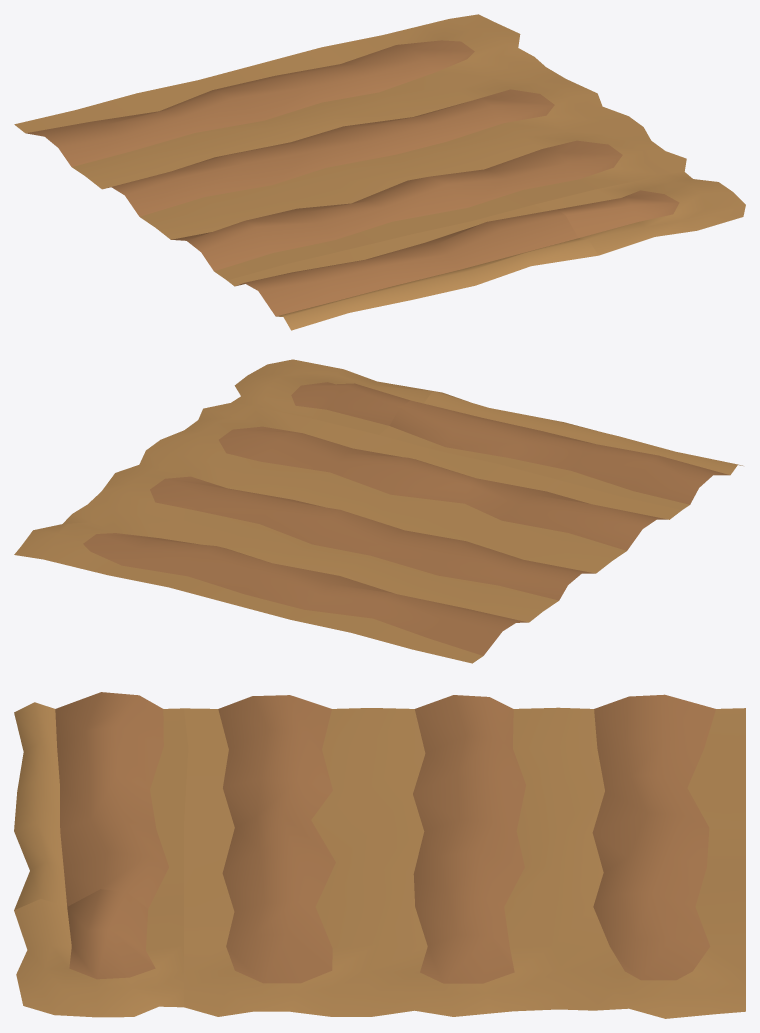
Rendered from Building_model_0_Fieldfrontrightedge001.fbx.
3 renders of one model, top to bottom at view 1: azimuth 30°, elevation 25°; view 2: azimuth 150°, elevation 25°; view 3: azimuth 270°, elevation 25°, orthographic. The views are drawn at different scales.
Visible parts, largest first — view 1: Building_model_0_Fieldfrontrightedge001; view 2: Building_model_0_Fieldfrontrightedge001; view 3: Building_model_0_Fieldfrontrightedge001.
Boxes of the visible parts, bbox=[...] form: Building_model_0_Fieldfrontrightedge001: bbox=[14, 14, 745, 330]; Building_model_0_Fieldfrontrightedge001: bbox=[14, 359, 742, 663]; Building_model_0_Fieldfrontrightedge001: bbox=[14, 692, 745, 1018].
Bounding box in the file's own units: 2.9 × 0.1042 × 2.93.
